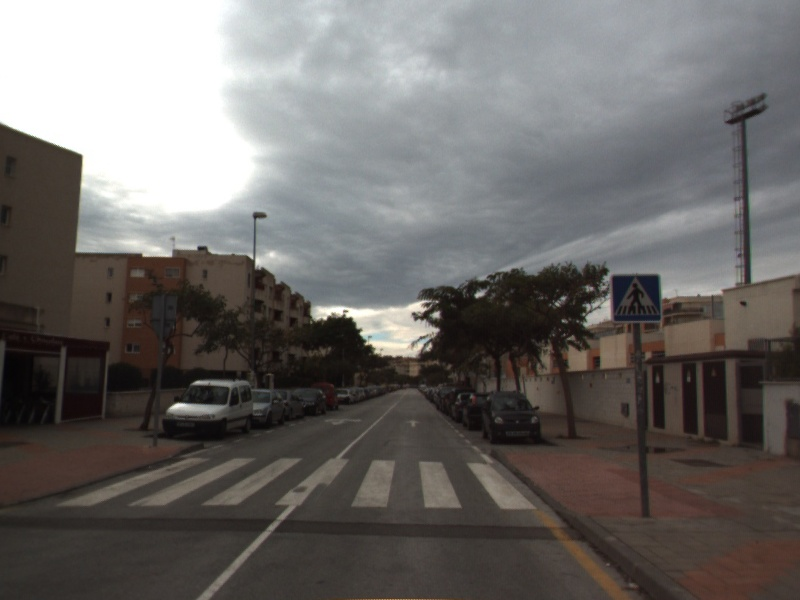STRAIGHT: (403, 418, 423, 429)
